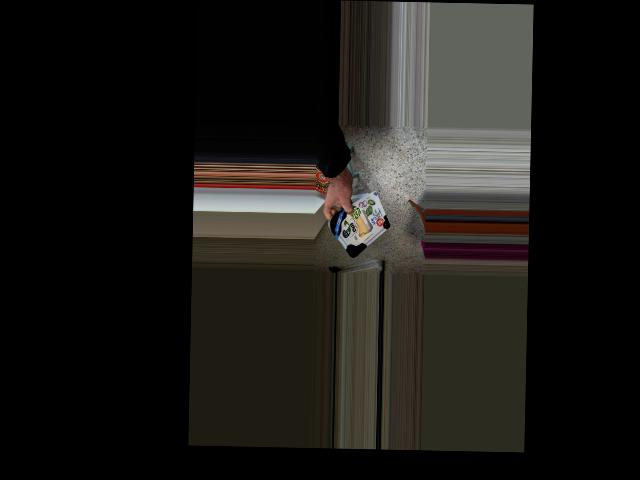cheese: (326, 195, 396, 257)
